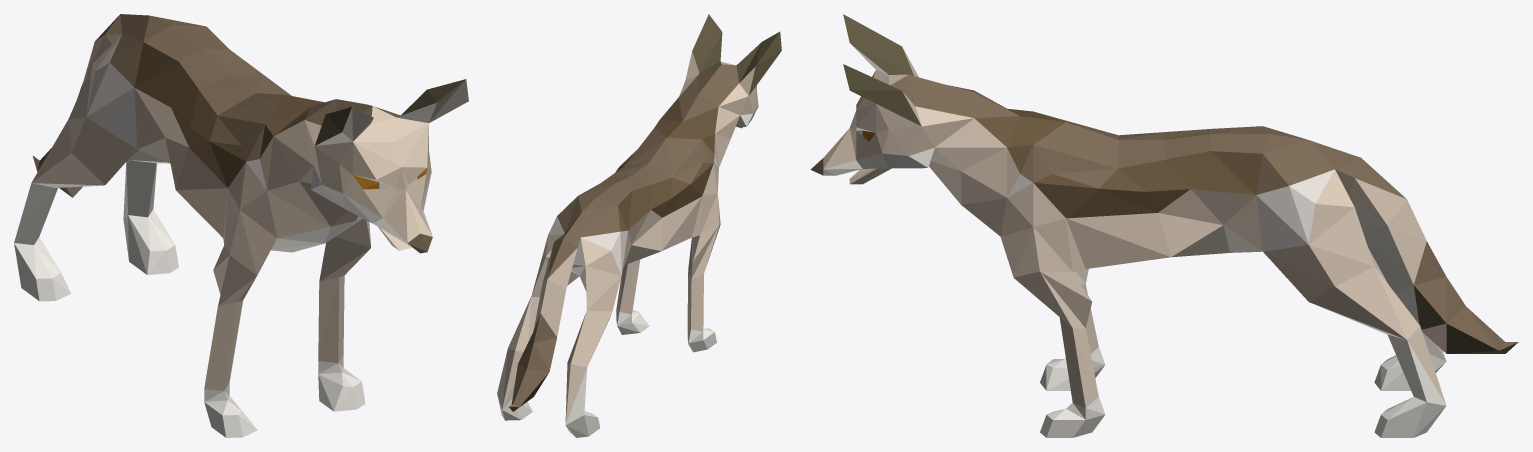
Rendered from jackal.glb.
3 views of the same model, side by side, from view 1: azimuth 30°, elevation 25°; view 2: azimuth 150°, elevation 25°; view 3: azimuth 270°, elevation 25° (orthographic). The views are drawn at different scales.
Bounding box in the file's own units: 22 × 62 × 108.
1 material, 1 textured.
